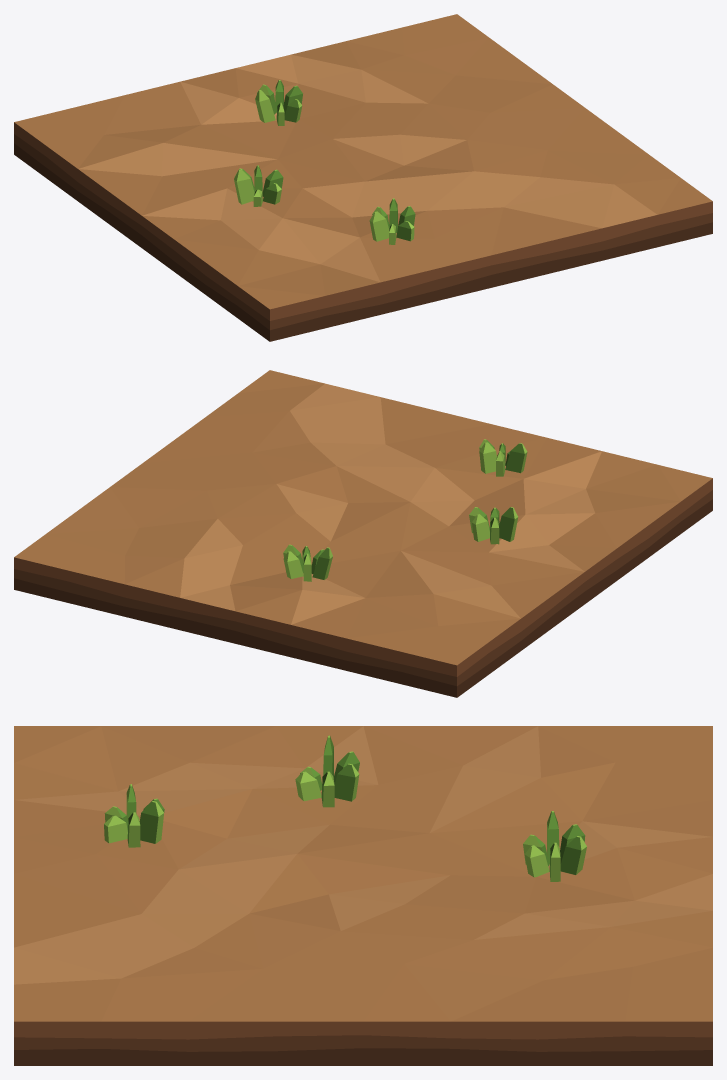
Rendered from FMS_Ground_Dirt_4x4.fbx.
3 views of the same model, one above another, from view 1: azimuth 30°, elevation 25°; view 2: azimuth 150°, elevation 25°; view 3: azimuth 270°, elevation 25° (orthographic). The views are drawn at different scales.
Parts seen in each view (by area): view 1: FMS_Ground_Dirt_4x4; view 2: FMS_Ground_Dirt_4x4; view 3: FMS_Ground_Dirt_4x4.
Part boxes in pixels (<box>): FMS_Ground_Dirt_4x4: <box>14,14,712,341</box>; FMS_Ground_Dirt_4x4: <box>14,370,712,697</box>; FMS_Ground_Dirt_4x4: <box>14,726,712,1065</box>.
Size of the model in its own units: 4 by 0.5745 by 4.
